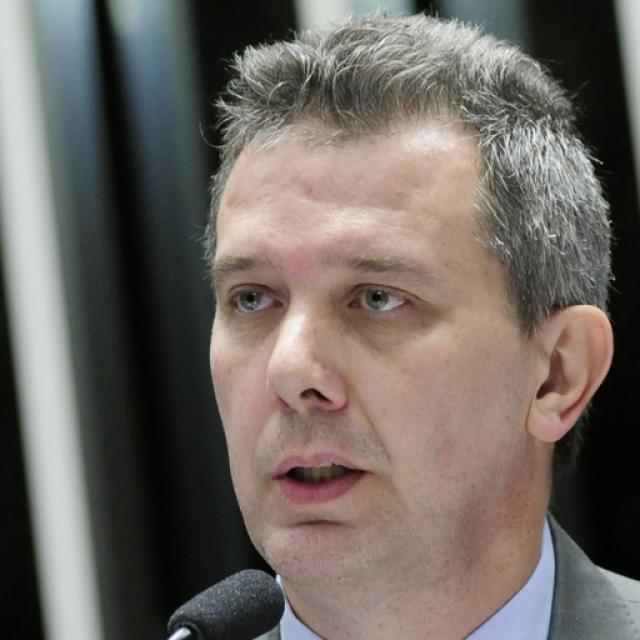surprise: (208, 114, 526, 588)
